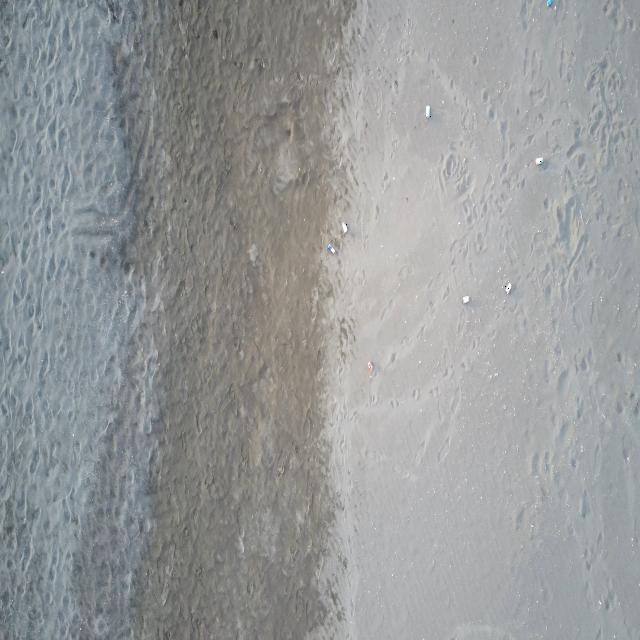tin-and-aluminum-cans: (533, 156, 545, 166), (341, 220, 348, 235), (505, 280, 512, 294), (426, 104, 431, 120), (328, 244, 336, 254), (462, 293, 470, 302), (367, 358, 372, 371), (546, 0, 552, 7)
